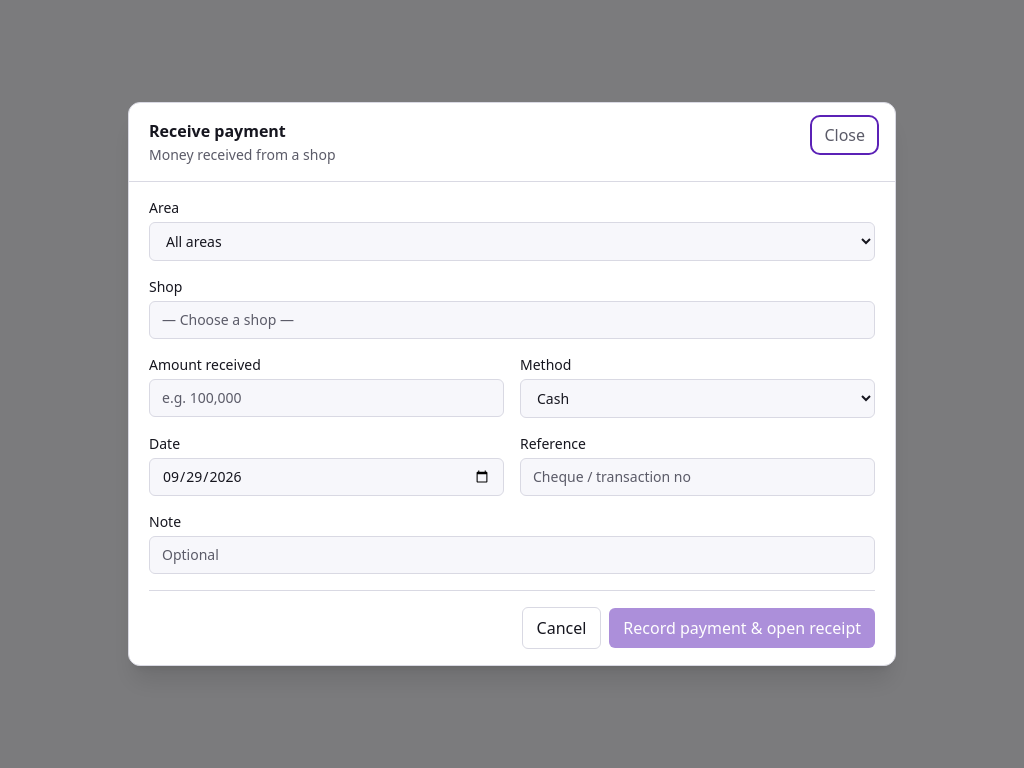
Test: money panels never pre-select a party › typing in the shop box un-chooses the shop, so Save cannot post to a stale party
The width and height of the screenshot is (1024, 768).
Click the dropdown labelled "Shop" at (512, 320), box [149,301,875,339]
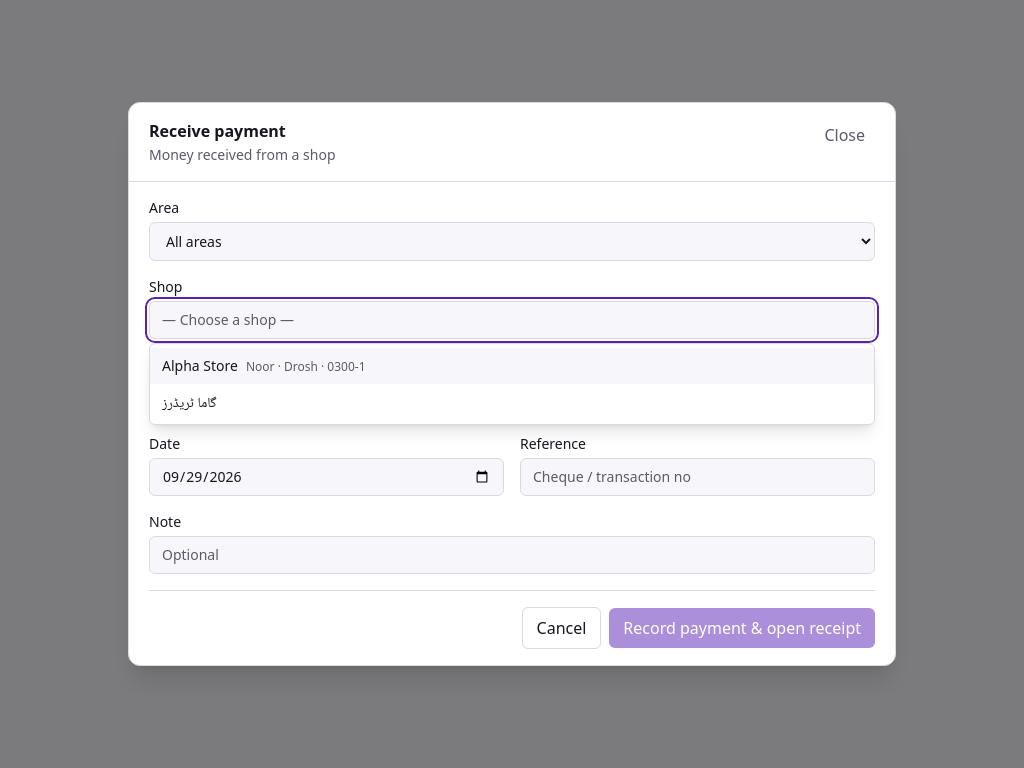
Click the option "Alpha Store" at (200, 366), box [150,348,874,384]
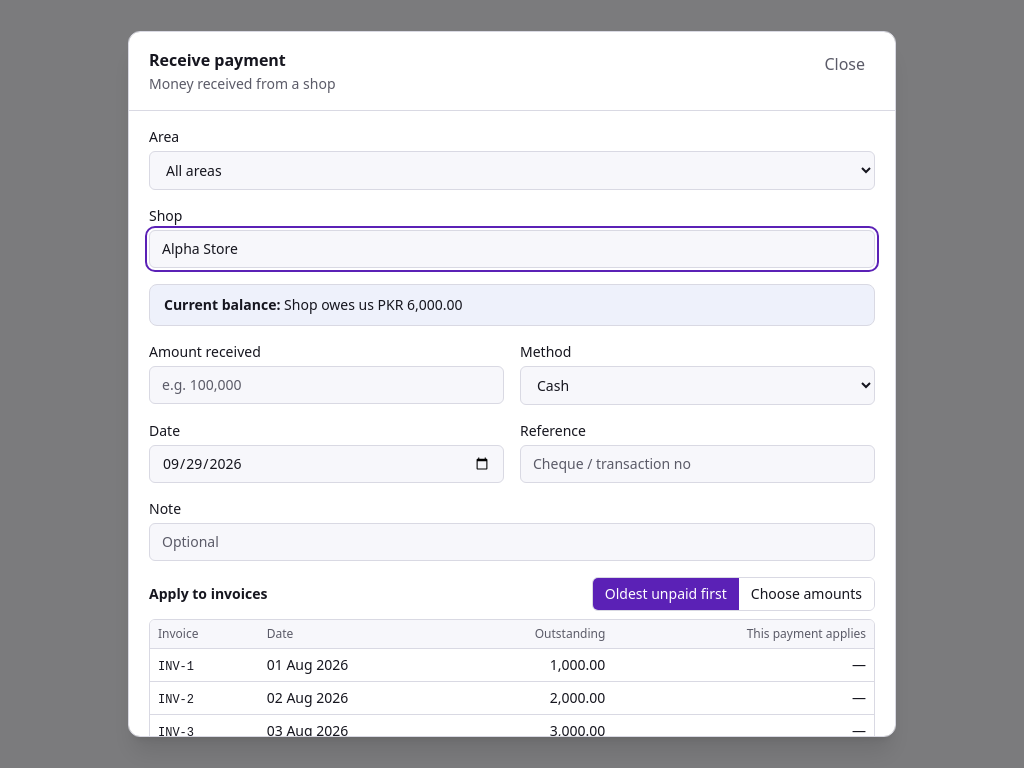
Type "100" into the field labelled "Amount received" at (326, 385), box [149,366,504,404]
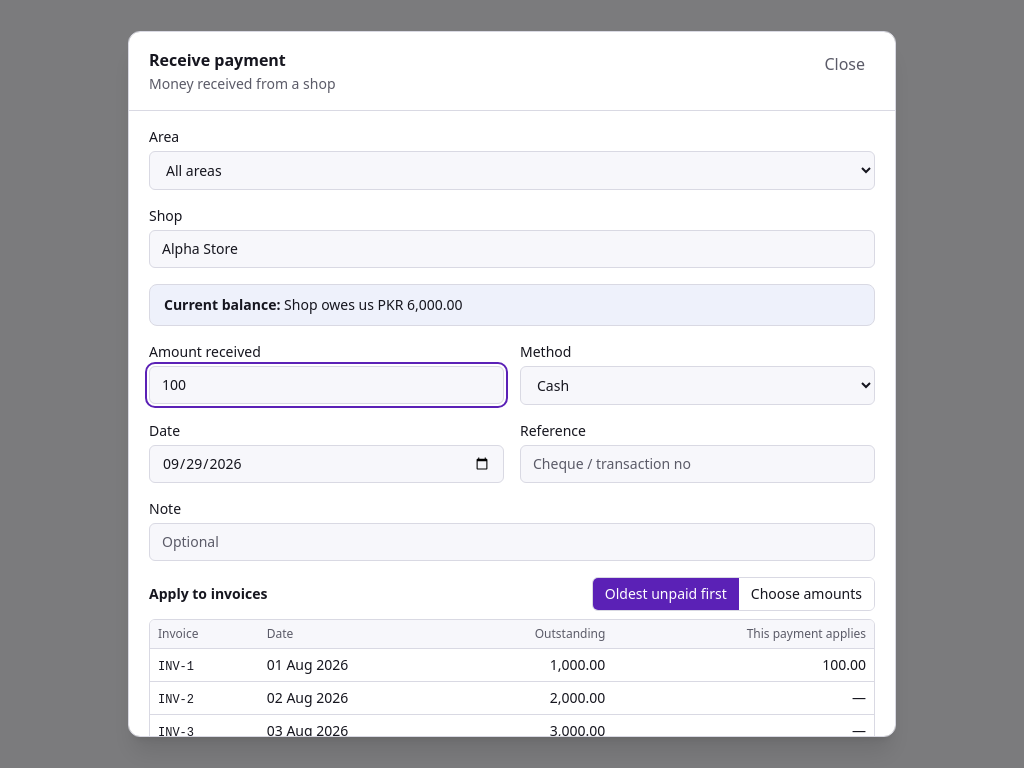
Type "x" into the dropdown labelled "Shop" at (512, 249), box [149,230,875,268]
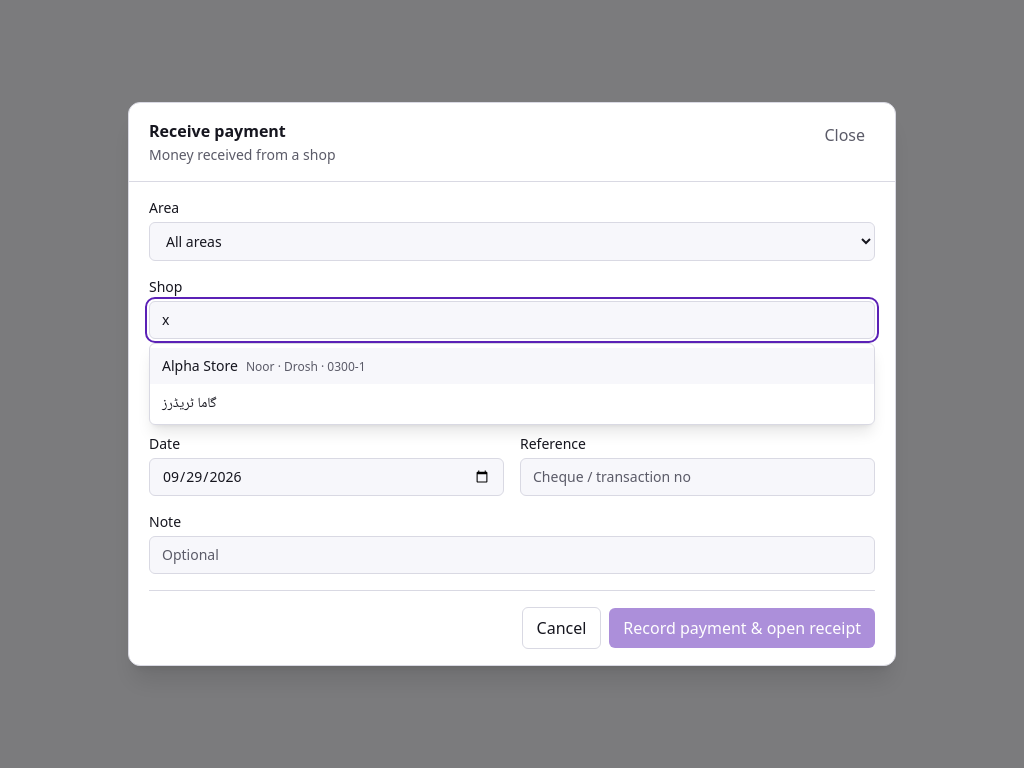
Expected: the button "Record payment & open receipt" is disabled, [609,608,875,648]
